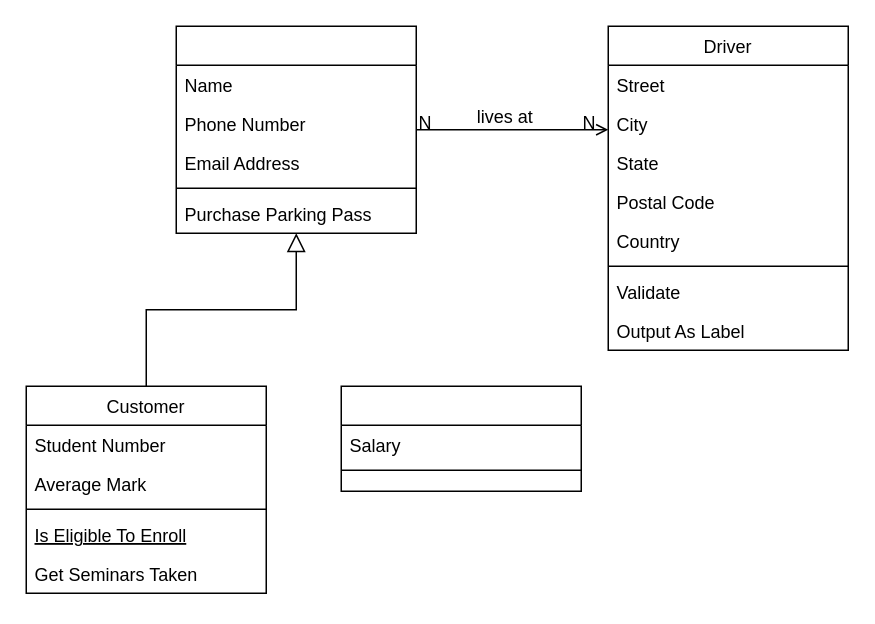
Some shapes in this 875 by 624 pixel diagram are drawn without their labels. The box of each missing label's shape, as (x1, y1, x2, y2) in pixels:
Cab: (175, 25, 416, 233)
Ride: (340, 385, 581, 491)
